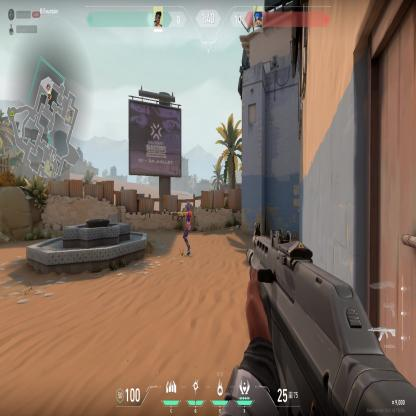enemy: (176, 200, 192, 256)
